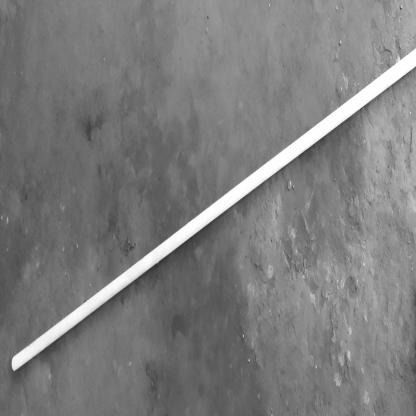PVC: (10, 43, 416, 374)
